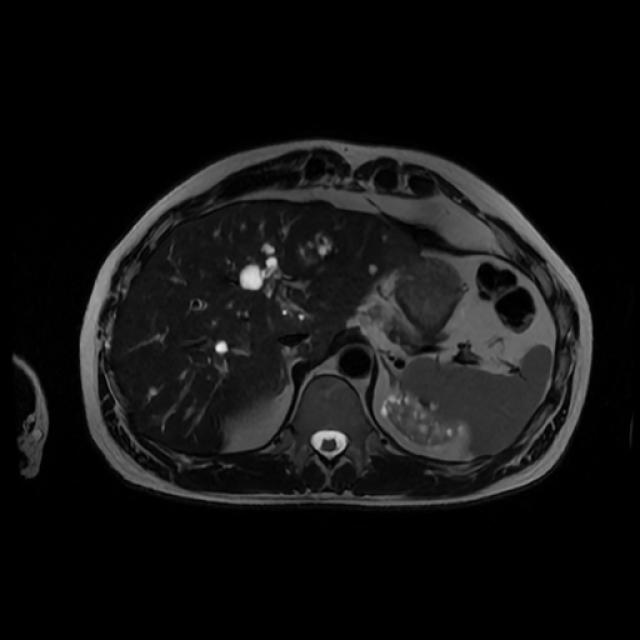sol: (385, 393, 461, 447)
